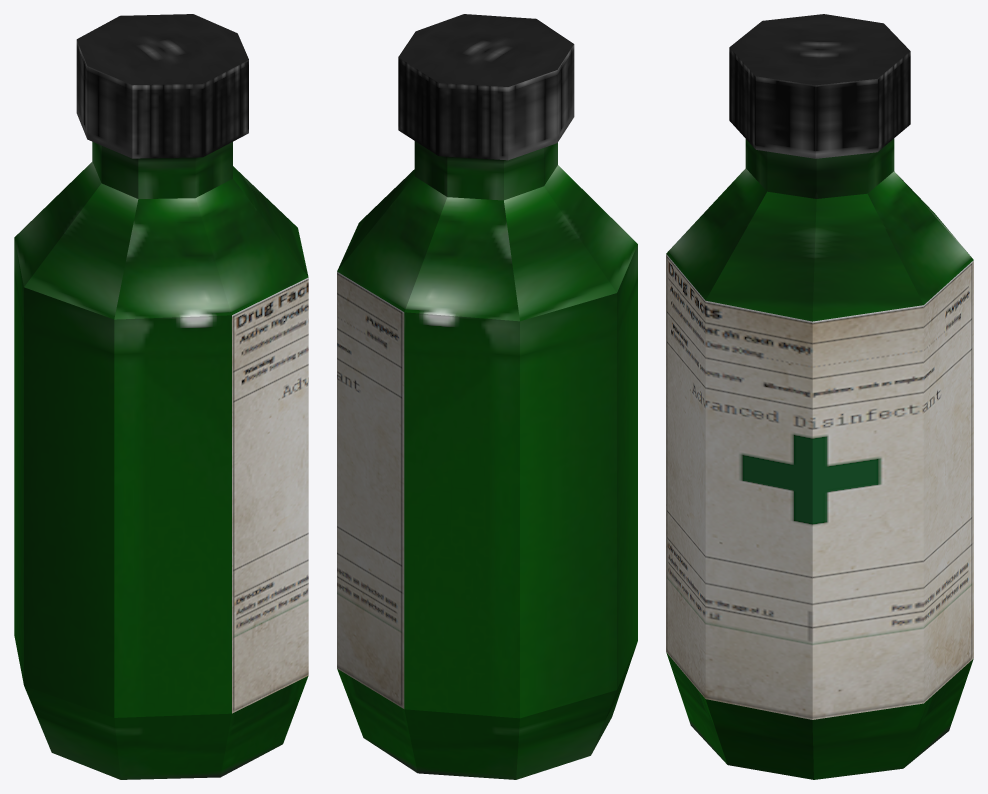
Rendered from desinfectant.fbx.
3 views of the same model, side by side, from view 1: azimuth 30°, elevation 25°; view 2: azimuth 150°, elevation 25°; view 3: azimuth 270°, elevation 25° (orthographic).
Visible parts, largest first — view 1: Cube.001; view 2: Cube.001; view 3: Cube.001.
Boxes of the visible parts, x1,y1,x2,y2 form: Cube.001: (14,14,308,779); Cube.001: (337,14,637,779); Cube.001: (666,14,973,779).
Size of the model in its own units: 127 by 309 by 127.
Materials: 1 (1 with a texture image).
